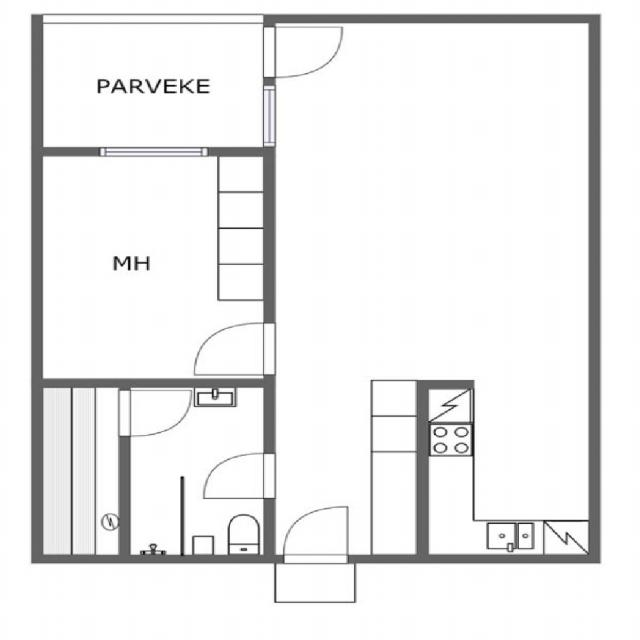door: (195, 322, 276, 375), (264, 27, 342, 77), (284, 507, 348, 563), (205, 453, 276, 498), (119, 391, 190, 435)
